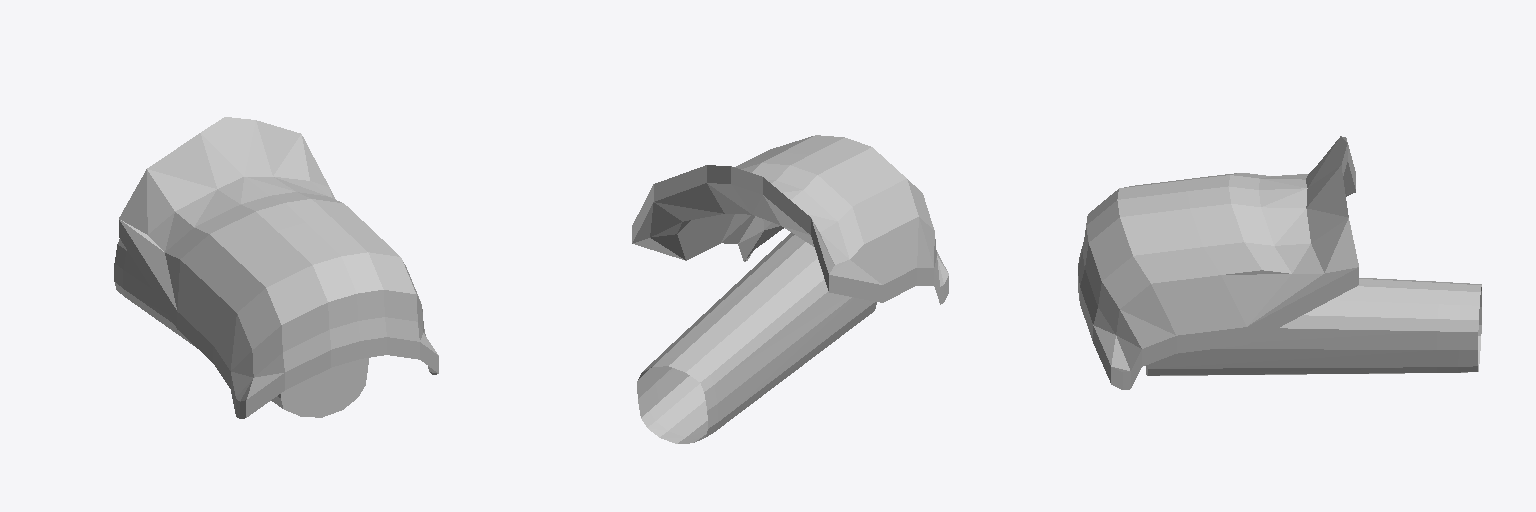
Rendered from Boss_ShoulderR.obj.
3 renders of one model, left to right at view 1: azimuth 30°, elevation 25°; view 2: azimuth 150°, elevation 25°; view 3: azimuth 270°, elevation 25°, orthographic.
Visible parts, largest first — view 1: 立方体.003; view 2: 立方体.003; view 3: 立方体.003.
Boxes of the visible parts, box(x1,y1,x2,y2) form: 立方体.003: box(114, 117, 438, 418); 立方体.003: box(632, 135, 948, 443); 立方体.003: box(1078, 136, 1481, 389).
Size of the model in its own units: 2.51 by 2.76 by 4.44.